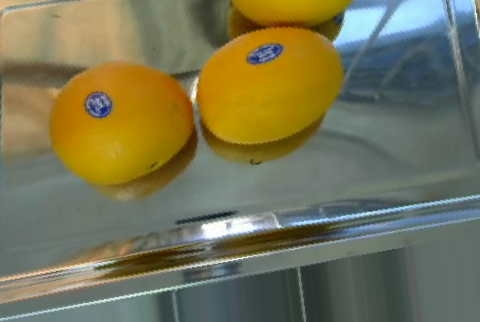Orange: (47, 60, 194, 186), (196, 24, 345, 144)
